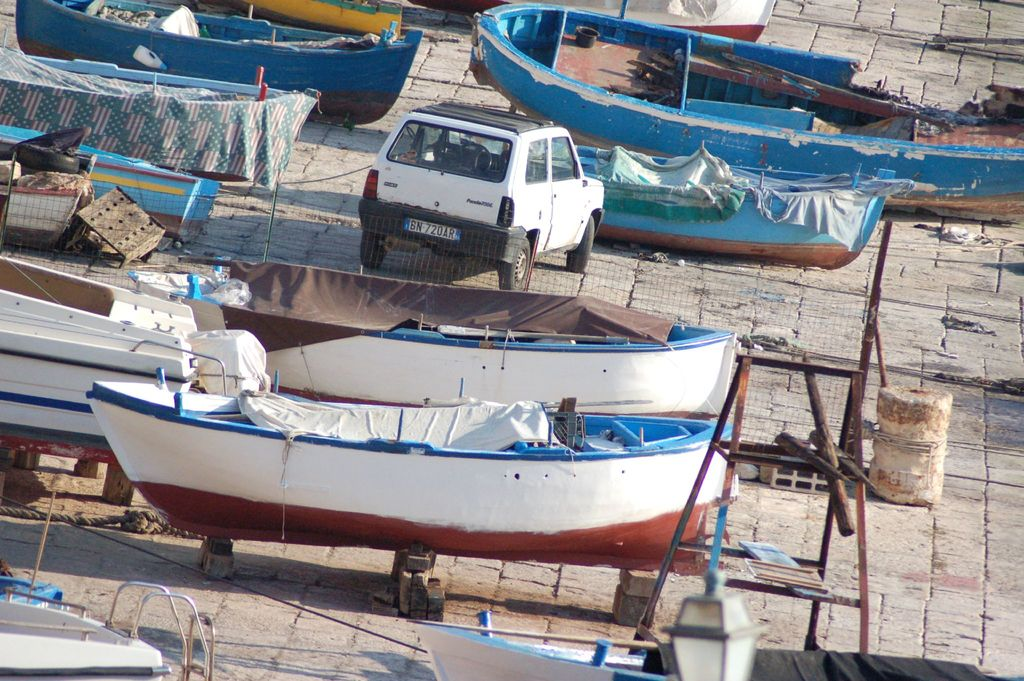Car: (359, 100, 605, 289)
